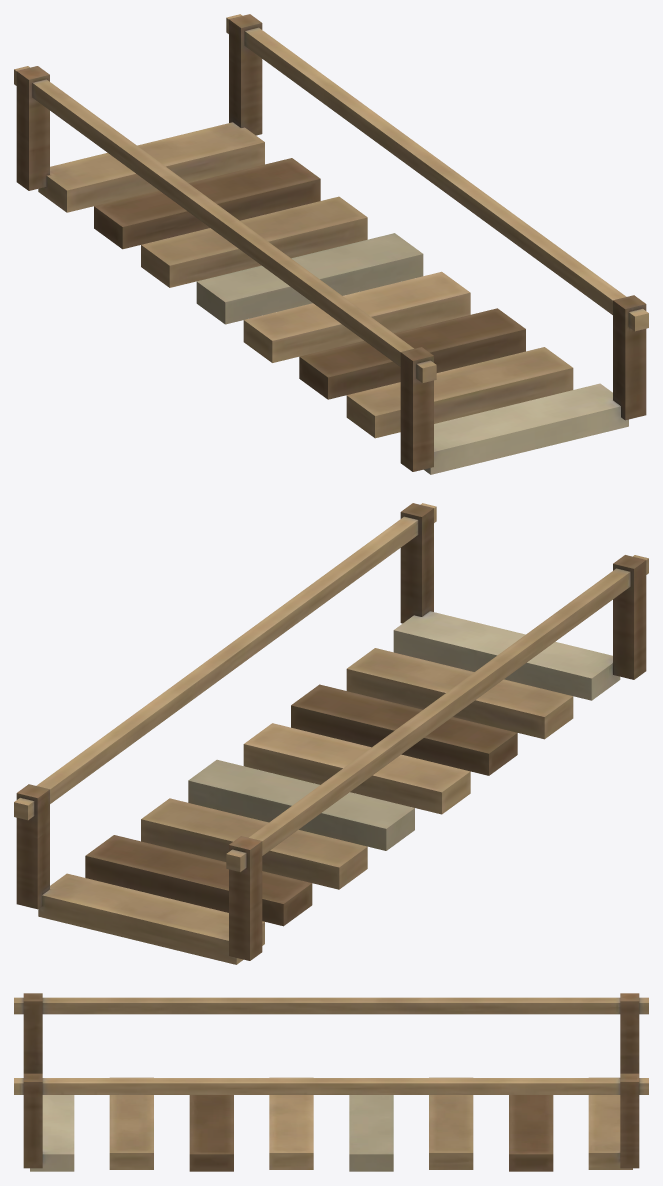
File: raft-walk-age1.glb
3 views of the same model, one above another, from view 1: azimuth 30°, elevation 25°; view 2: azimuth 150°, elevation 25°; view 3: azimuth 270°, elevation 25° (orthographic). The views are drawn at different scales.
Parts seen in each view (by area): view 1: raft-walk-age1; view 2: raft-walk-age1; view 3: raft-walk-age1.
Boxes of the visible parts, x1=… form: raft-walk-age1: x1=14, y1=14, x2=648, y2=474; raft-walk-age1: x1=14, y1=503, x2=648, y2=964; raft-walk-age1: x1=14, y1=993, x2=648, y2=1171.
Size of the model in its own units: 0.33 by 0.165 by 1.
1 material, 1 textured.
